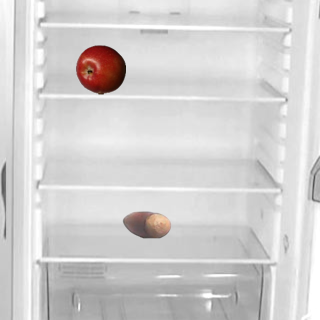Apple Braeburn: (75, 44, 125, 94)
Hazelnut: (121, 199, 171, 249)
